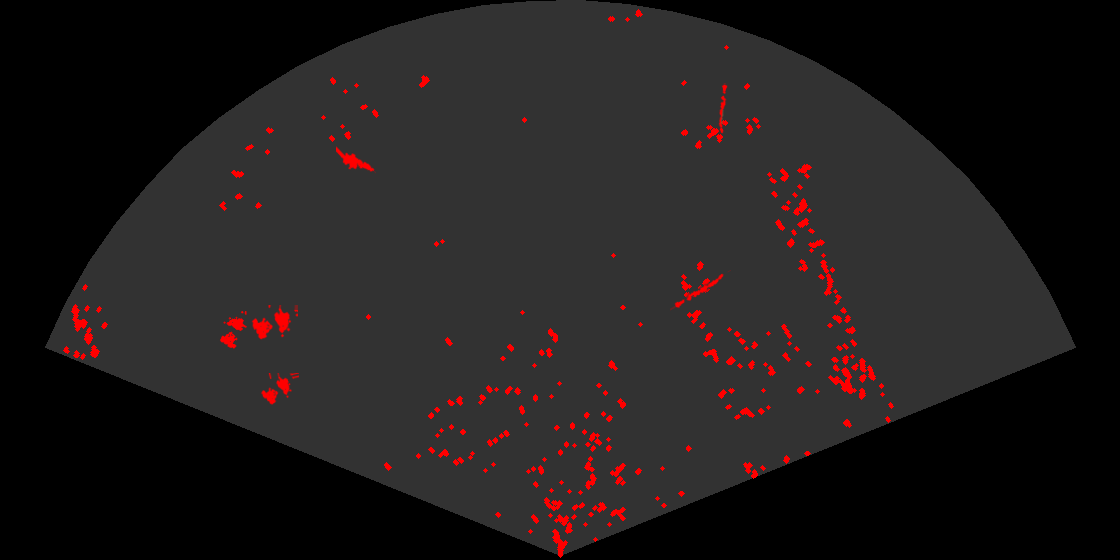cage: (250, 305, 298, 341), (259, 373, 299, 406), (218, 311, 247, 350)
chain: (670, 270, 731, 312), (717, 83, 729, 134)
frogman: (336, 145, 376, 175)
